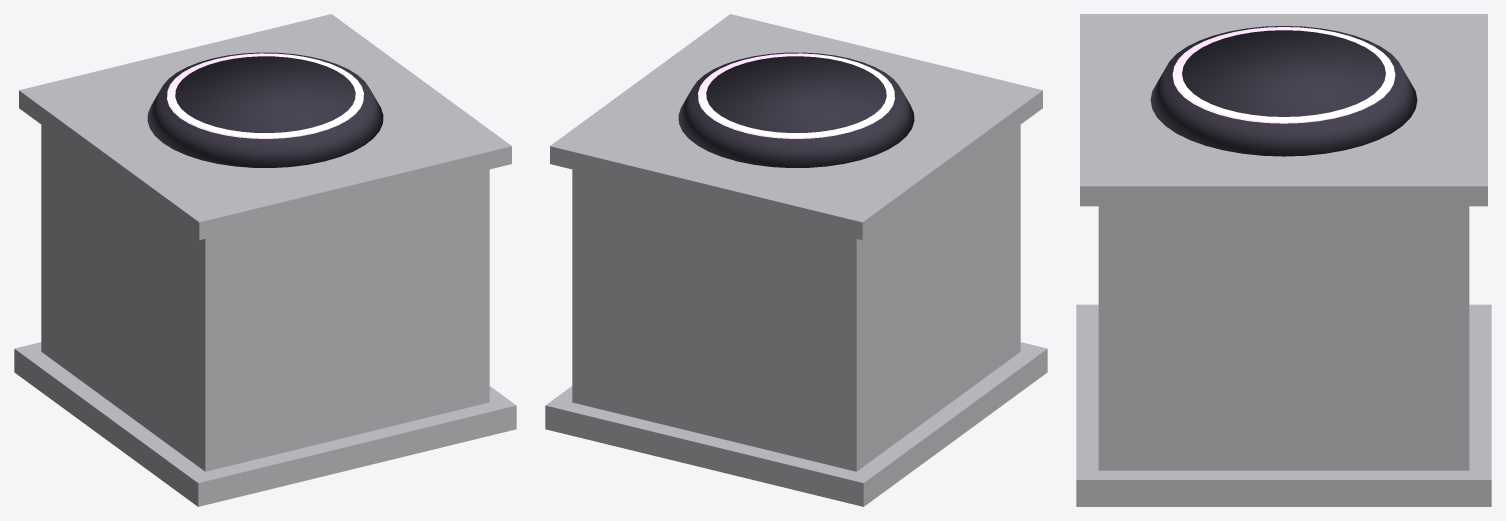
File: experience.glb
The picture shows the model from 3 angles, left to right: view 1: azimuth 30°, elevation 25°; view 2: azimuth 150°, elevation 25°; view 3: azimuth 270°, elevation 25°; orthographic projection. The views are drawn at different scales.
Visible parts, largest first — view 1: ExperiencePedestal, ExperiencePedestalTop, ExperiencePedestalFoot, ExperienceRingHole, ExperienceProjector, ExperienceRing; view 2: ExperiencePedestal, ExperiencePedestalTop, ExperiencePedestalFoot, ExperienceRingHole, ExperienceProjector, ExperienceRing; view 3: ExperiencePedestal, ExperiencePedestalTop, ExperiencePedestalFoot, ExperienceRingHole, ExperienceProjector, ExperienceRing.
Boxes of the visible parts, x1,y1,x2,y2 form: ExperiencePedestal: (41,23,489,471); ExperiencePedestalTop: (19,14,511,240); ExperiencePedestalFoot: (14,342,516,506); ExperienceRingHole: (175,56,355,132); ExperienceProjector: (147,52,383,167); ExperienceRing: (167,53,363,138); ExperiencePedestal: (572,23,1020,471); ExperiencePedestalTop: (550,14,1042,240); ExperiencePedestalFoot: (545,342,1047,506); ExperienceRingHole: (706,56,886,132); ExperienceProjector: (678,52,914,167); ExperienceRing: (698,53,894,138); ExperiencePedestal: (1098,21,1469,470); ExperiencePedestalTop: (1080,14,1487,206); ExperiencePedestalFoot: (1076,304,1491,506); ExperienceRingHole: (1182,30,1385,116); ExperienceProjector: (1150,26,1417,156); ExperienceRing: (1172,27,1395,123).
Bounding box in the file's own units: 1.12 × 1.03 × 1.12.
